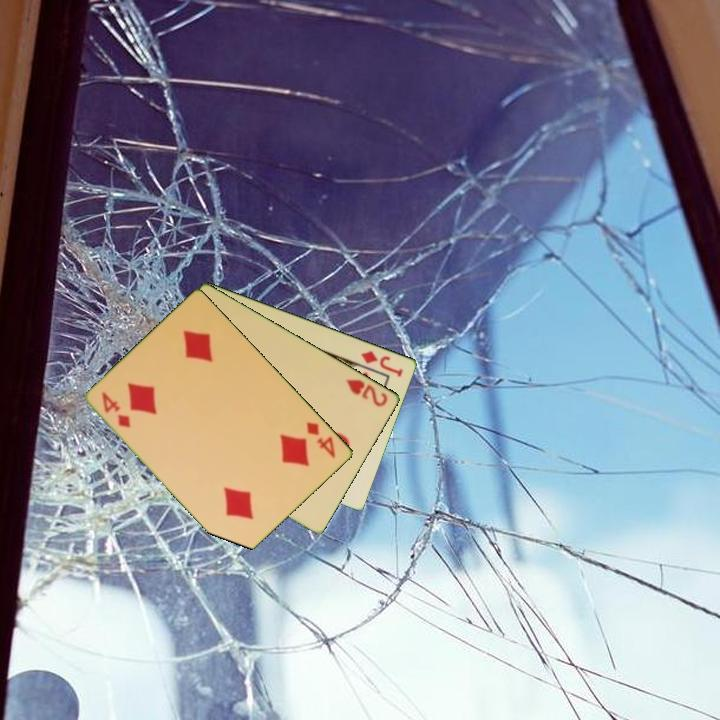2h: (343, 375, 391, 410)
4d: (303, 418, 339, 461), (98, 388, 134, 431)
Jd: (358, 347, 406, 380)
